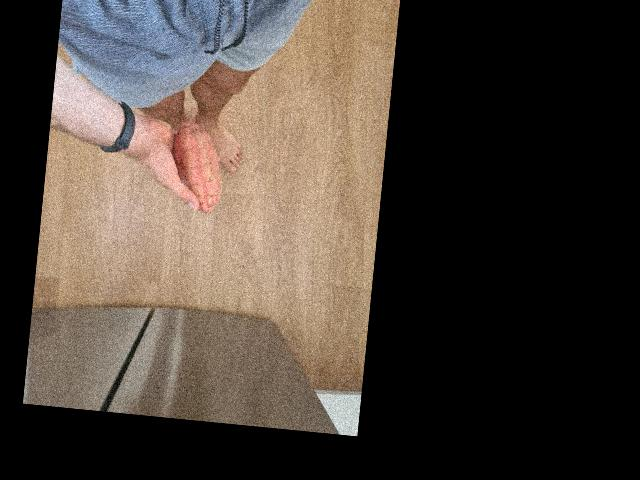sweet_potato: (169, 119, 227, 211)
